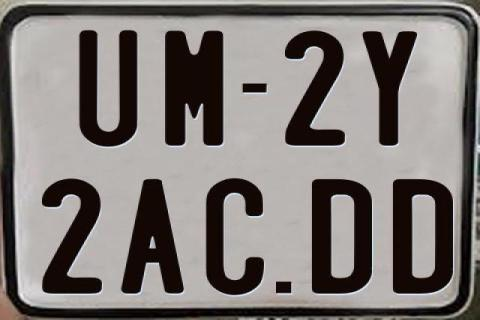0: (284, 28, 350, 148), (39, 177, 99, 296)
A: (121, 178, 189, 294)
C: (204, 179, 268, 299)
D: (393, 178, 459, 294), (312, 179, 376, 293)
M: (164, 30, 228, 148)
U: (77, 30, 137, 150)
Y: (362, 29, 418, 148)
